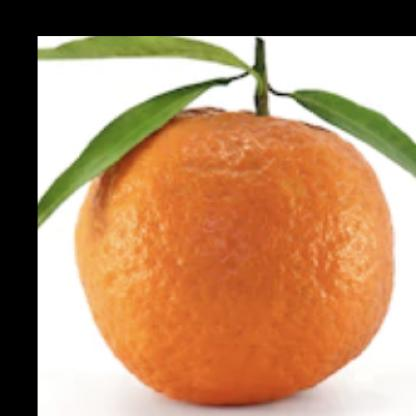fresh: (79, 92, 393, 408)
